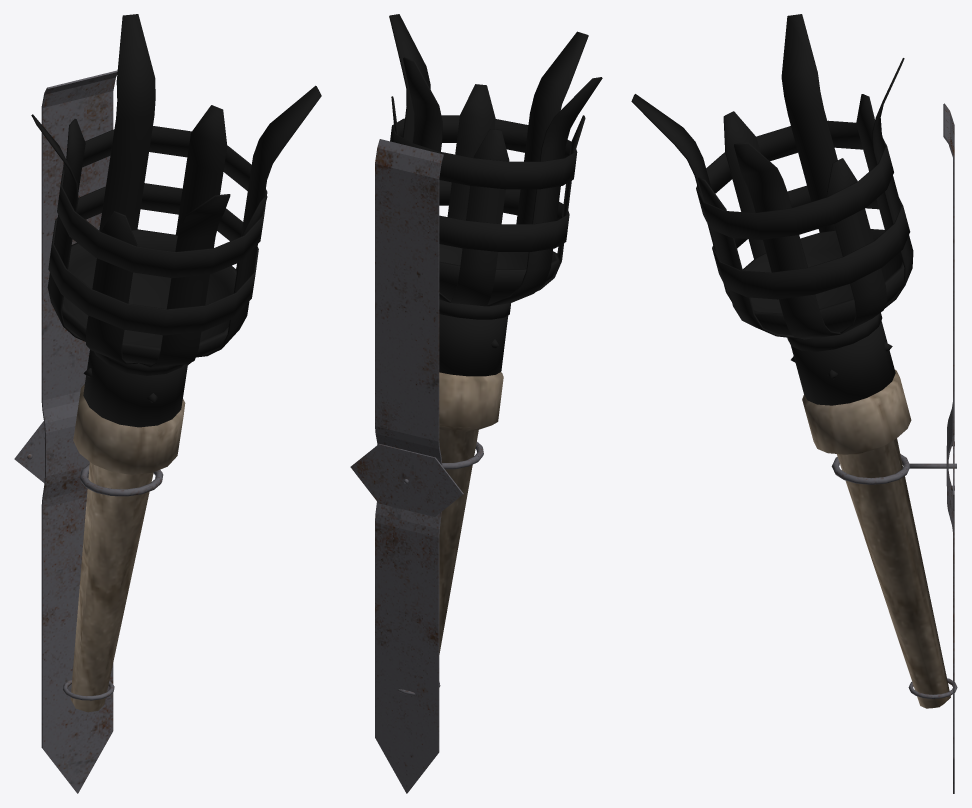
Rendered from Torch.gltf.
3 renders of one model, left to right at view 1: azimuth 30°, elevation 25°; view 2: azimuth 150°, elevation 25°; view 3: azimuth 270°, elevation 25°, orthographic. The views are drawn at different scales.
Parts seen in each view (by area): view 1: torch, torchstand; view 2: torch, torchstand; view 3: torch, torchstand.
Boxes of the visible parts, box(x1,y1,x2,y2) form: torch: box(31, 14, 321, 712); torchstand: box(14, 70, 163, 793); torch: box(389, 14, 602, 654); torchstand: box(350, 139, 483, 793); torch: box(631, 14, 950, 708); torchstand: box(831, 103, 957, 793).
Bounding box in the file's own units: 1.42 × 4.16 × 1.65.
2 materials, 2 textured.
